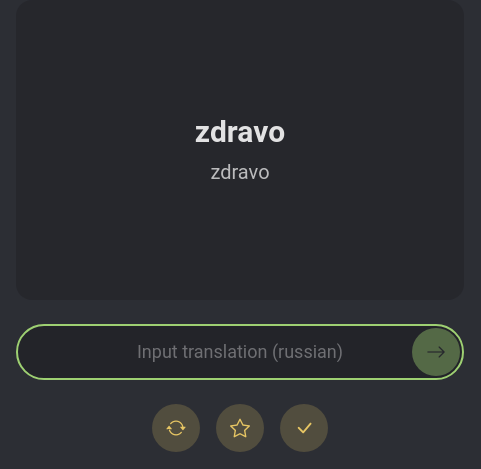
it: Home › flips the card when clicked
Click the button with aria-label "tap to see translation" at (240, 150), box [16,0,464,300]
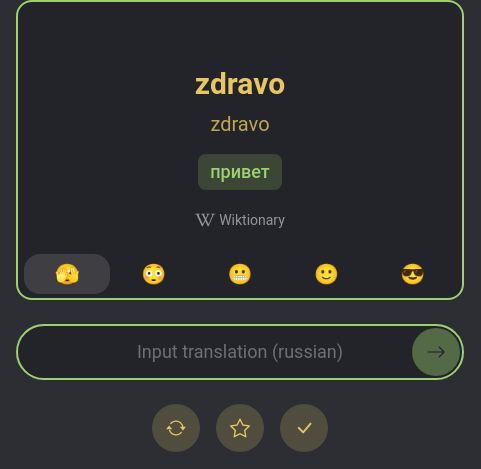
Result: the button with aria-label "card with translation" is shown at [16,0,464,300]
